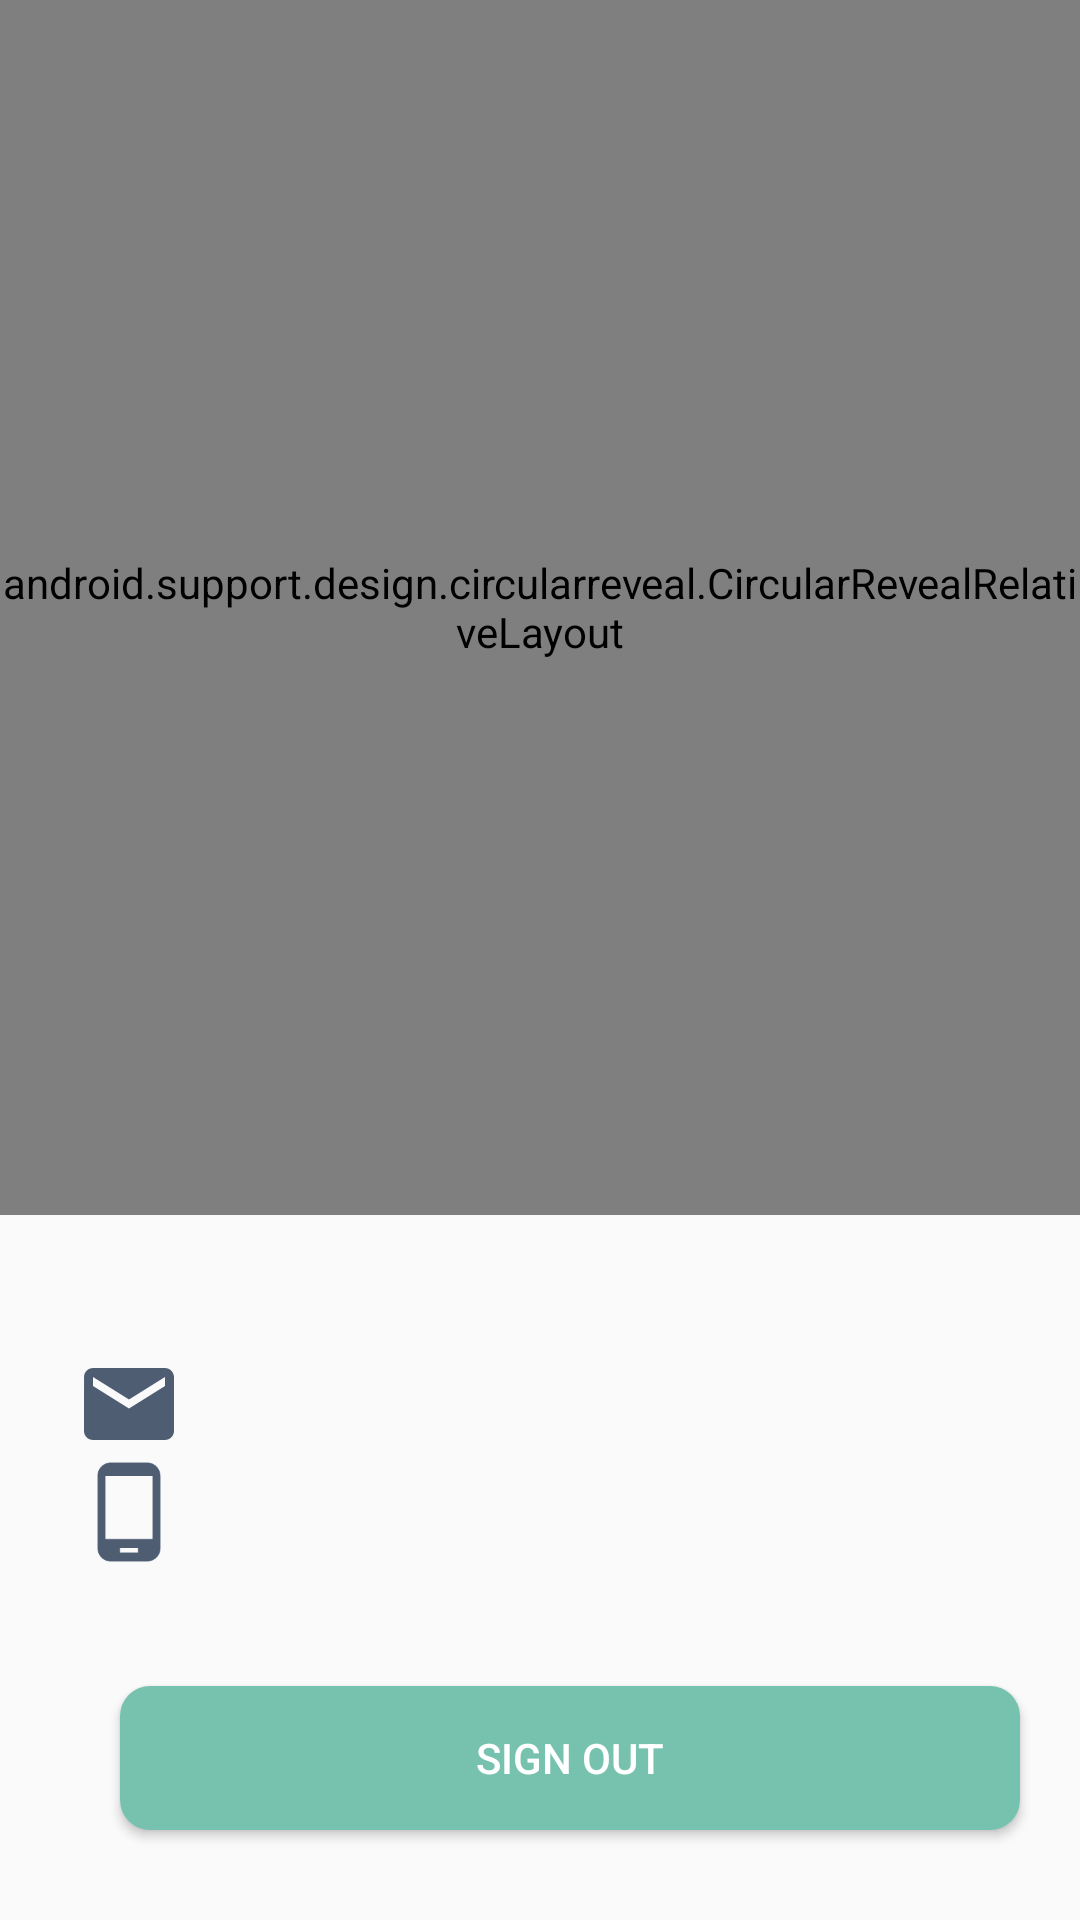

Named icons in this screenshot (1080px x 1920px) and their centers, (x,y):
email: (129,1404)
phone android: (129,1512)
